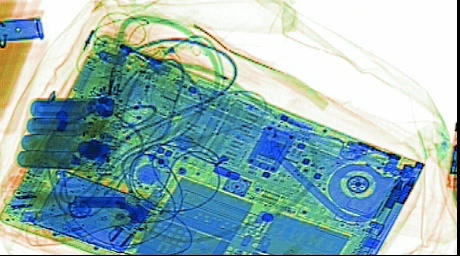powerbank: (12, 92, 121, 171)
